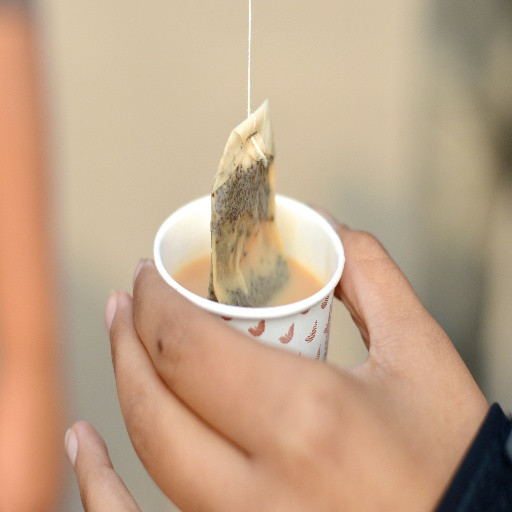hand: (62, 202, 486, 511)
